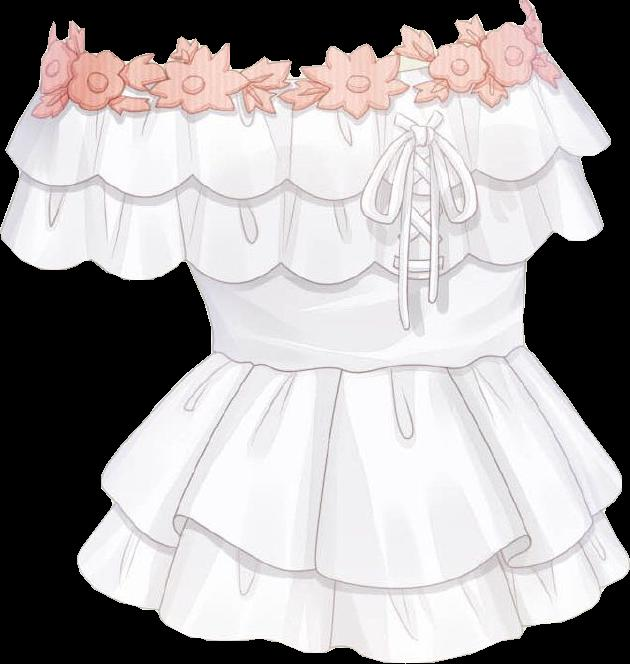Bodice: (1, 0, 629, 661)
Neckline: (45, 16, 542, 83), (208, 340, 527, 377)
Waistline: (99, 478, 626, 595), (73, 554, 629, 663), (0, 219, 606, 286), (3, 137, 615, 202)
